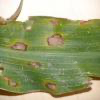Corn Gray leaf spot: (0, 16, 98, 96)
